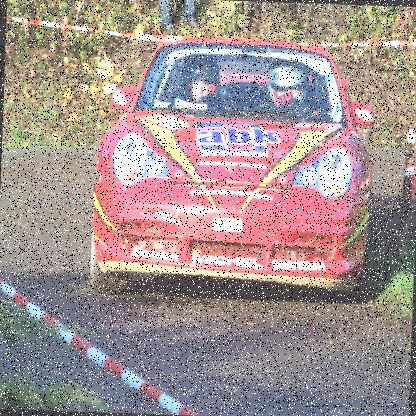Car: (89, 41, 378, 306)
